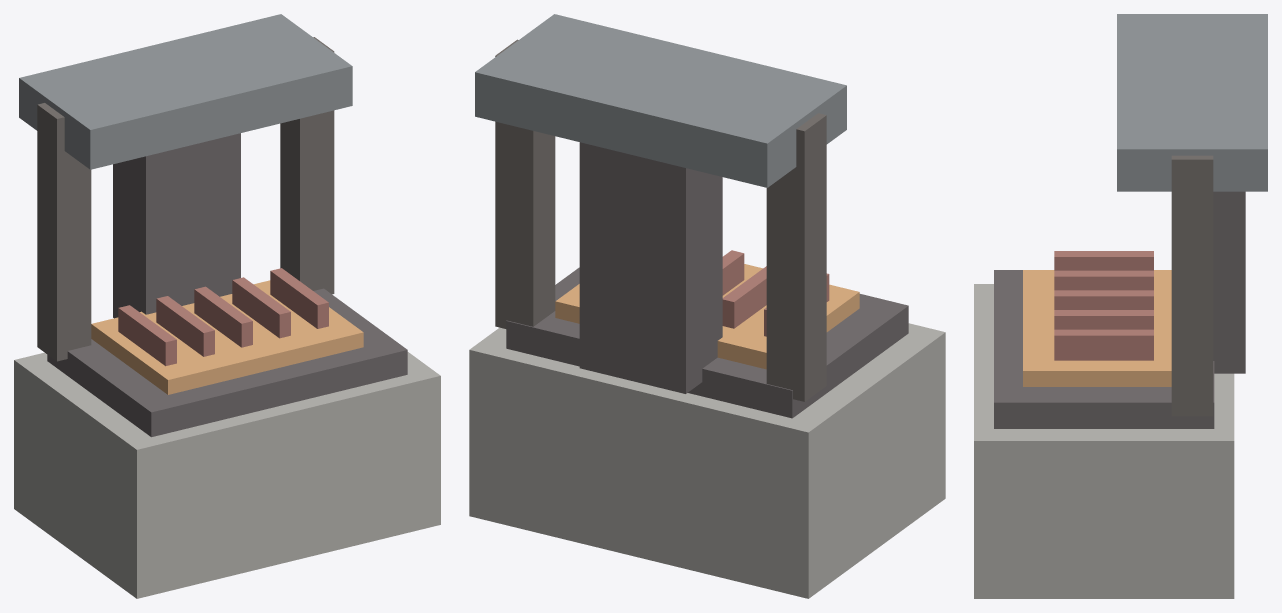
Rendered from blacksmith_forge_hearth.glb.
3 renders of one model, left to right at view 1: azimuth 30°, elevation 25°; view 2: azimuth 150°, elevation 25°; view 3: azimuth 270°, elevation 25°, orthographic. The views are drawn at different scales.
Visible parts, largest first — view 1: box_0, box_5, box_6, box_1, box_3, box_2, box_4, box_10, box_11, box_7, box_8, box_9; view 2: box_0, box_5, box_6, box_3, box_4, box_1, box_2, box_8, box_9; view 3: box_0, box_5, box_1, box_4, box_2, box_6, box_11, box_8, box_7, box_9, box_10.
Boxes of the visible parts, x1,y1,x2,y2 form: box_0: (14, 352, 440, 598); box_5: (19, 14, 352, 169); box_6: (113, 133, 240, 318); box_1: (47, 288, 407, 437); box_3: (37, 103, 91, 361); box_2: (91, 280, 363, 394); box_4: (280, 37, 334, 294); box_10: (232, 277, 290, 338); box_11: (270, 268, 328, 328); box_7: (118, 305, 176, 366); box_8: (156, 296, 214, 356); box_9: (194, 286, 252, 347); box_0: (469, 323, 945, 598); box_5: (475, 14, 846, 187); box_6: (579, 142, 722, 393); box_3: (766, 113, 826, 401); box_4: (495, 39, 555, 328); box_1: (506, 267, 908, 418); box_2: (555, 264, 859, 369); box_8: (722, 266, 766, 328); box_9: (722, 250, 744, 295); box_0: (974, 284, 1234, 598); box_5: (1117, 14, 1267, 191); box_1: (994, 270, 1214, 428); box_4: (1171, 155, 1213, 416); box_2: (1023, 270, 1171, 386); box_6: (1213, 191, 1245, 373); box_11: (1054, 329, 1153, 360); box_8: (1054, 270, 1153, 290); box_7: (1054, 251, 1153, 270); box_9: (1054, 290, 1153, 309); box_10: (1054, 310, 1153, 329).
Size of the model in its own units: 1.6 by 2.08 by 1.26.
